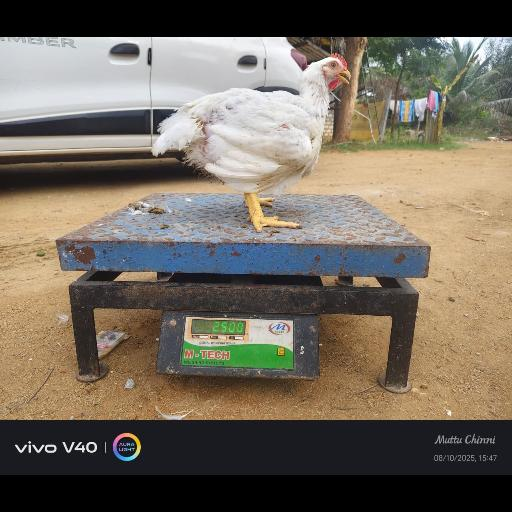chick: (153, 52, 350, 229)
